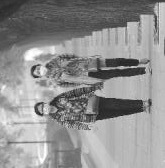person: (33, 87, 153, 131), (30, 51, 153, 85)
